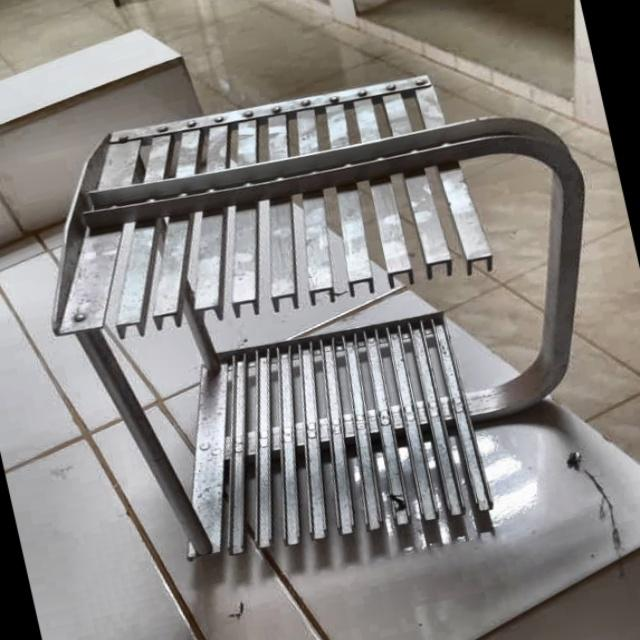Plate Rack: (1, 23, 640, 616)
